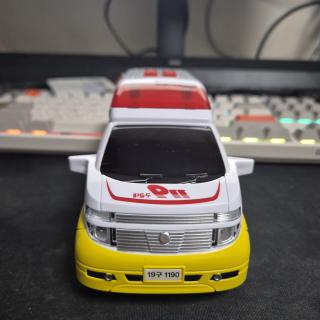Ambulance: (69, 68, 254, 293)
